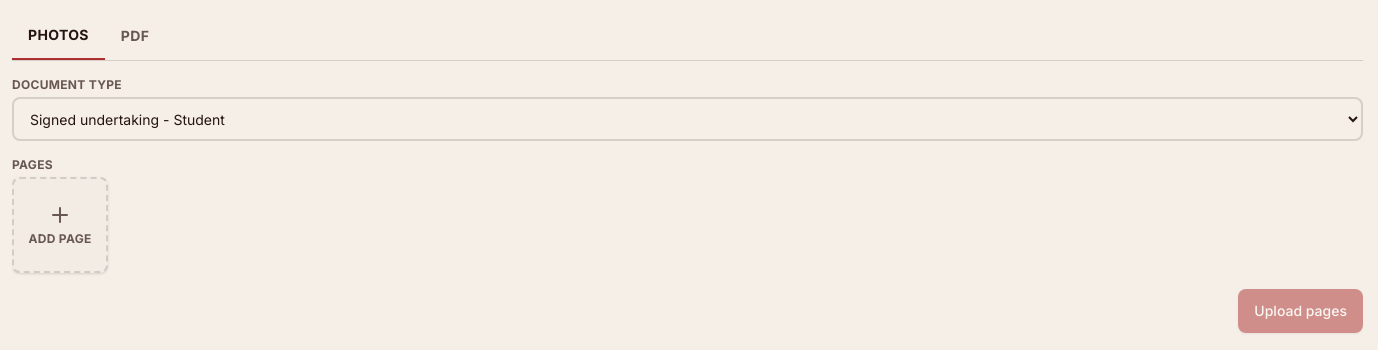
UploadDocumentForm — mode toggle › starts in photos mode and switches to pdf mode
Click the tab "PDF". click: (135, 36)
box: [105,12,165,60]
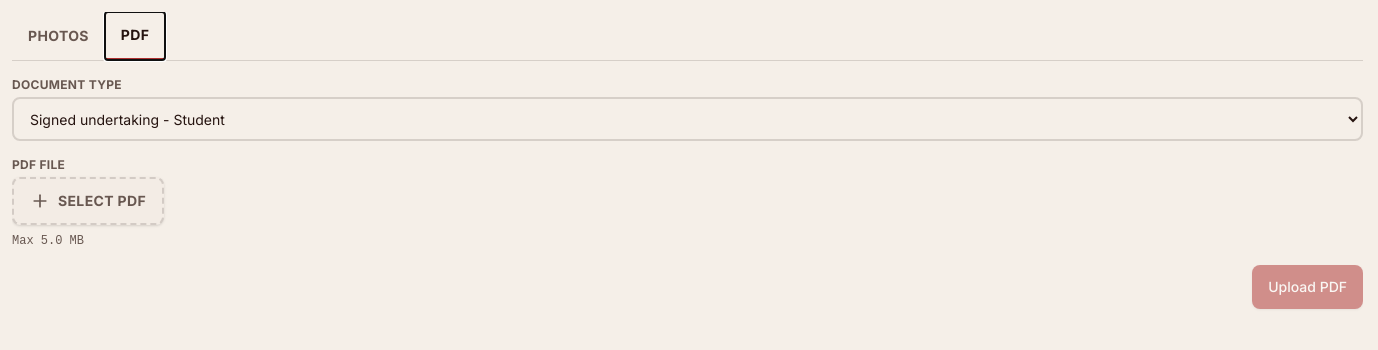
Check: the button "Select PDF" is shown, box [12,177,164,225]
